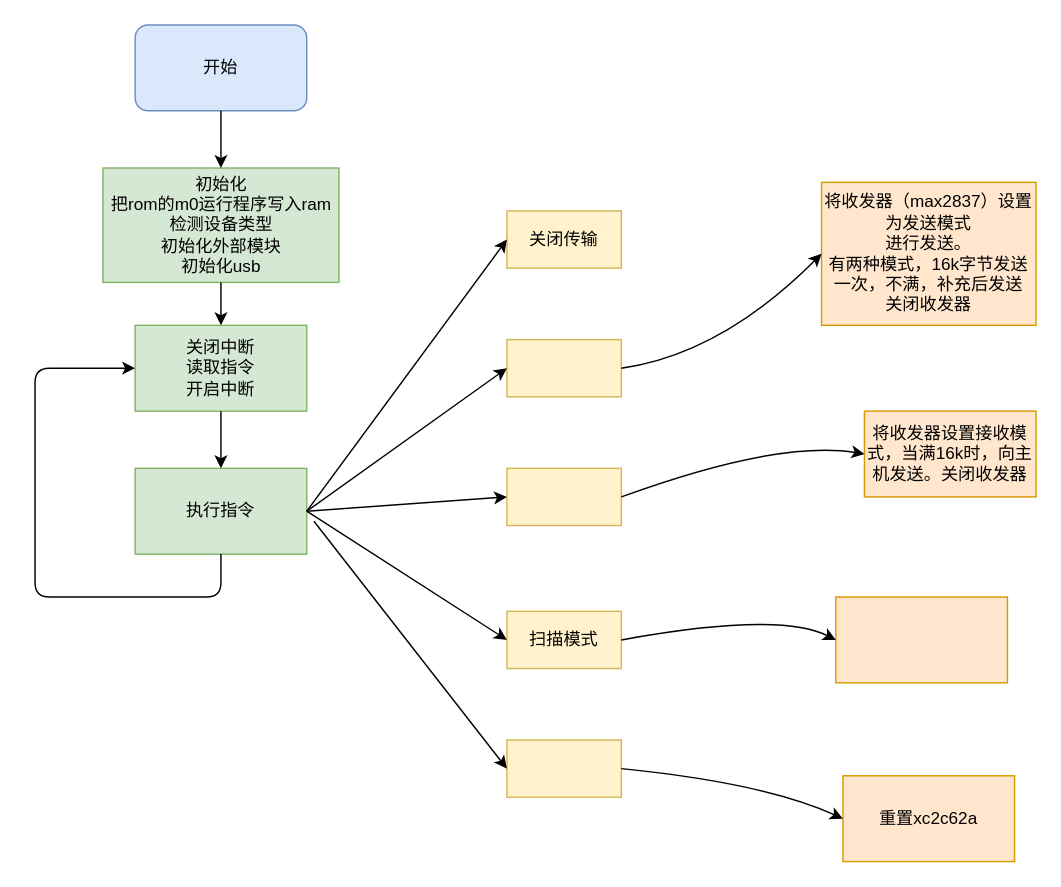
This 1061x887 diagram has some shape labels left out. Each missing label, with the box of its shape:
发送模式: (506, 338, 621, 397)
接收一次数据后进行频率更新: (834, 596, 1007, 683)
接收模式: (506, 467, 621, 526)
重置CPLD: (506, 739, 621, 797)
